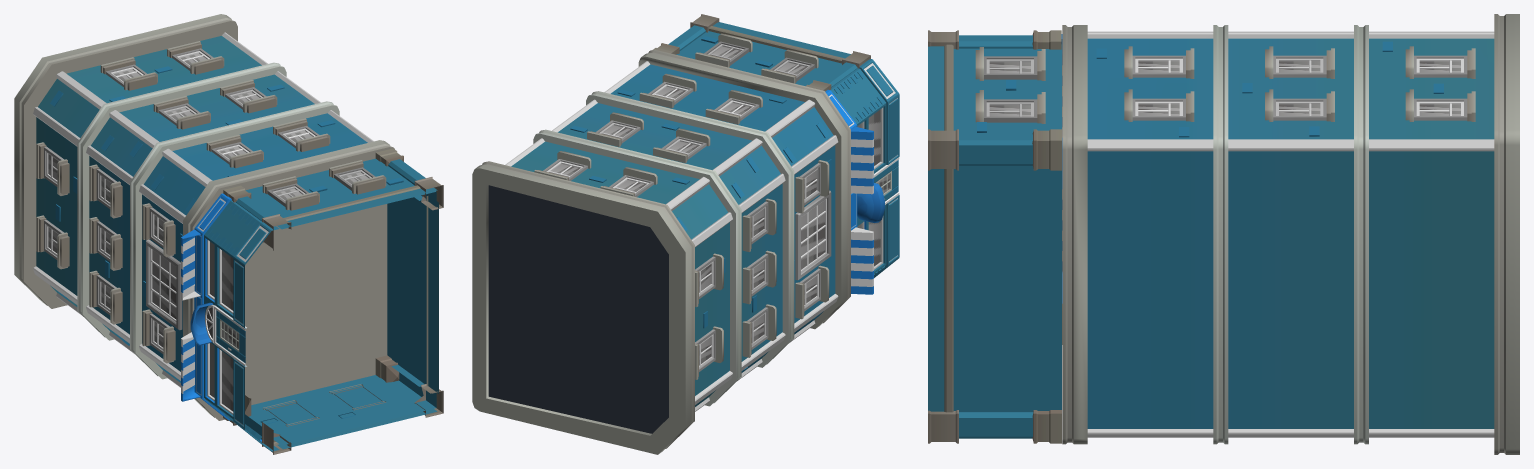
The model's file is Building_3_3_H.fbx.
3 renders of one model, left to right at view 1: azimuth 30°, elevation 25°; view 2: azimuth 150°, elevation 25°; view 3: azimuth 270°, elevation 25°, orthographic. The views are drawn at different scales.
Parts seen in each view (by area): view 1: Building 3_3_H; view 2: Building 3_3_H; view 3: Building 3_3_H.
Boxes of the visible parts, left/top/right/bottom form: Building 3_3_H: left=14, top=14, right=443, bottom=454; Building 3_3_H: left=472, top=14, right=899, bottom=454; Building 3_3_H: left=928, top=14, right=1519, bottom=454.
Bounding box in the file's own units: 808 × 837 × 1383.
